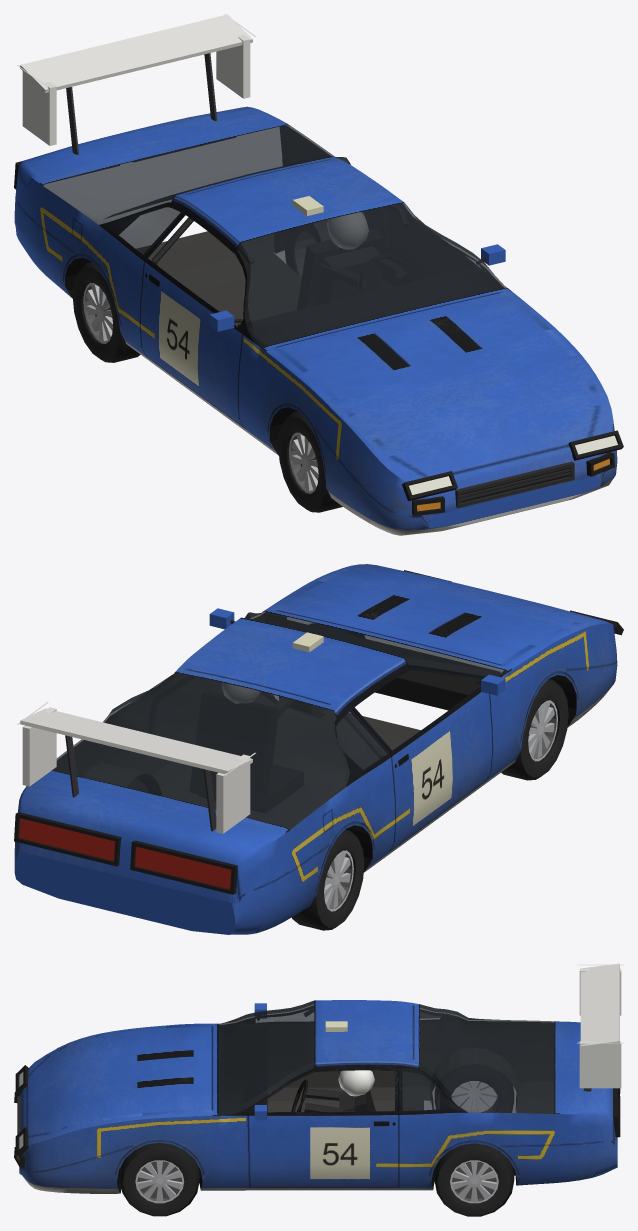
3 renders of one model, top to bottom at view 1: azimuth 30°, elevation 25°; view 2: azimuth 150°, elevation 25°; view 3: azimuth 270°, elevation 25°, orthographic. The views are drawn at different scales.
Parts seen in each view (by area): view 1: body, wheel_rr, wheel_fr, wheel_rl; view 2: body, wheel_rr, wheel_fr; view 3: body, wheel_fl, wheel_rl, wheel_rr.
Part boxes in pixels (left/top/right/bottom): body: left=14, top=14, right=623, bottom=535; wheel_rr: left=72, top=261, right=140, bottom=362; wheel_fr: left=278, top=411, right=342, bottom=512; wheel_rl: left=284, top=223, right=320, bottom=276; body: left=14, top=564, right=623, bottom=934; wheel_rr: left=291, top=829, right=364, bottom=930; wheel_fr: left=501, top=679, right=568, bottom=780; body: left=14, top=963, right=623, bottom=1193; wheel_fl: left=120, top=1142, right=199, bottom=1216; wheel_rl: left=434, top=1143, right=514, bottom=1216; wheel_rr: left=435, top=1064, right=513, bottom=1112.
Bounding box in the file's own units: 2.08 × 1.53 × 4.97.
Materials: 2 (1 with a texture image).
